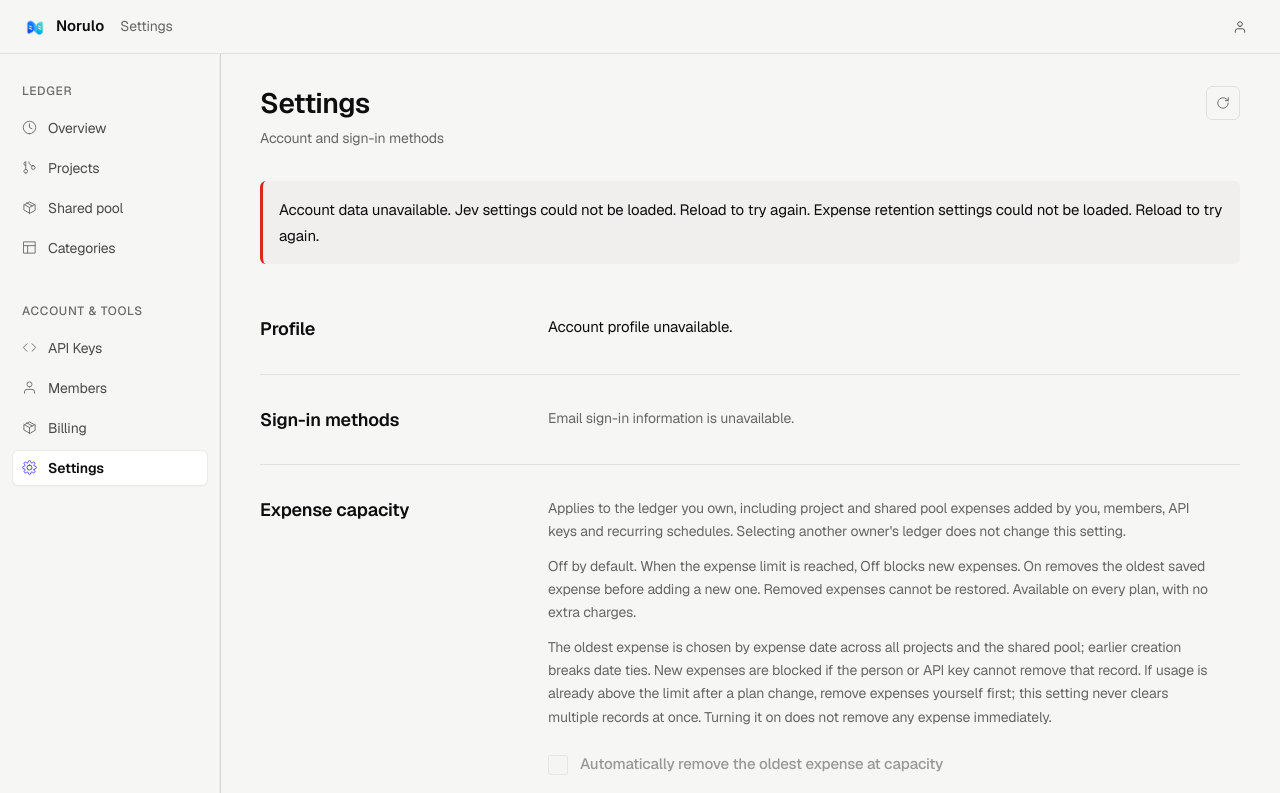
Test: product settings › offers retry when account data fails without inventing an empty account
Expected: the message shows "Account data unavailable.", [279, 200, 1222, 245]
Expected: the text "Account profile unavailable." is shown, [548, 316, 732, 339]
Click the button named "reload".
click(1223, 103)  # box [1206, 86, 1240, 120]
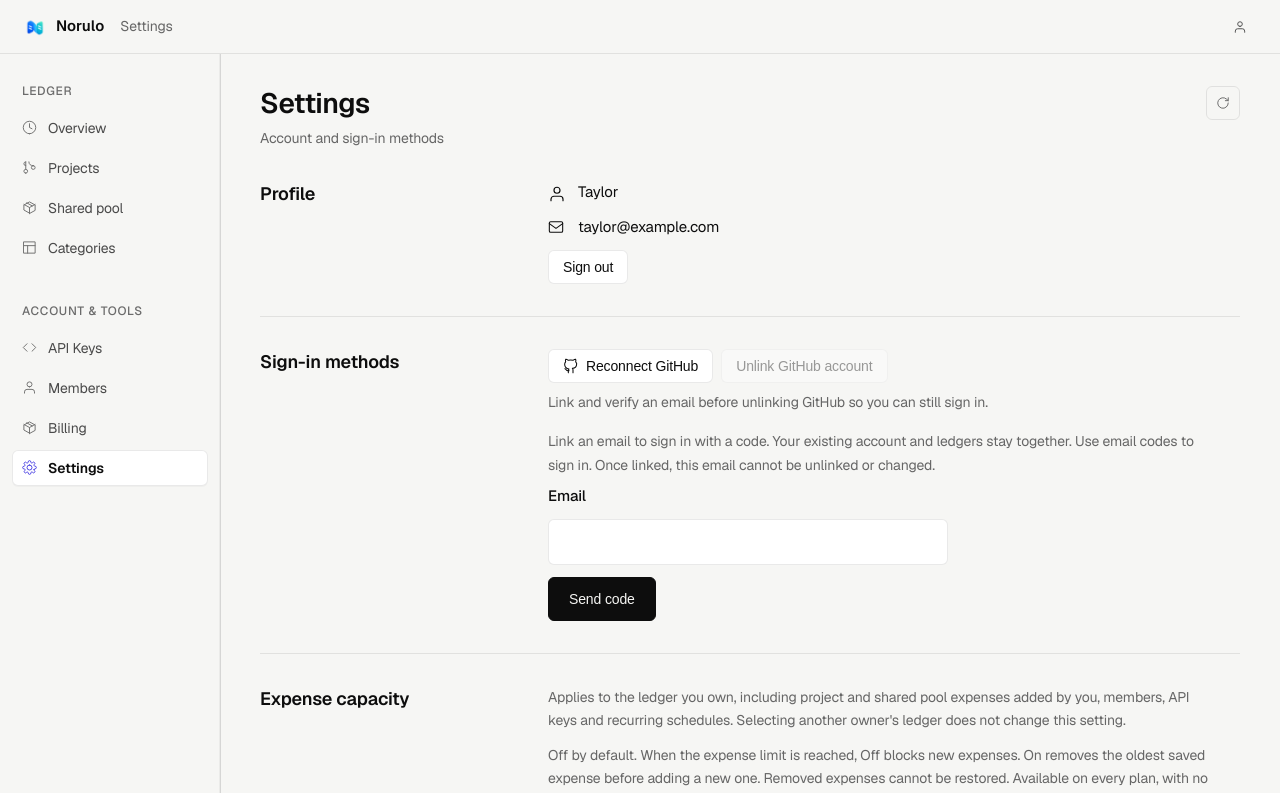
Expected: the text "Taylor" is shown, [578, 182, 618, 201]
